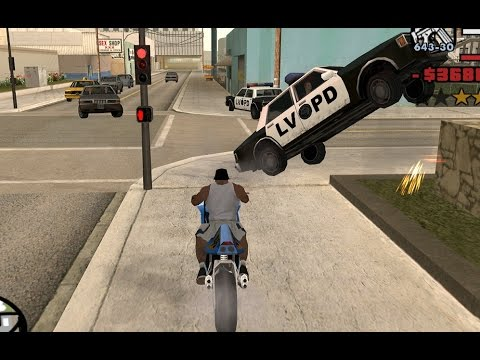bike: (191, 193, 260, 331)
car: (241, 32, 411, 172), (223, 83, 286, 120), (77, 86, 124, 120), (64, 78, 98, 101), (98, 73, 122, 96), (163, 71, 180, 85)
